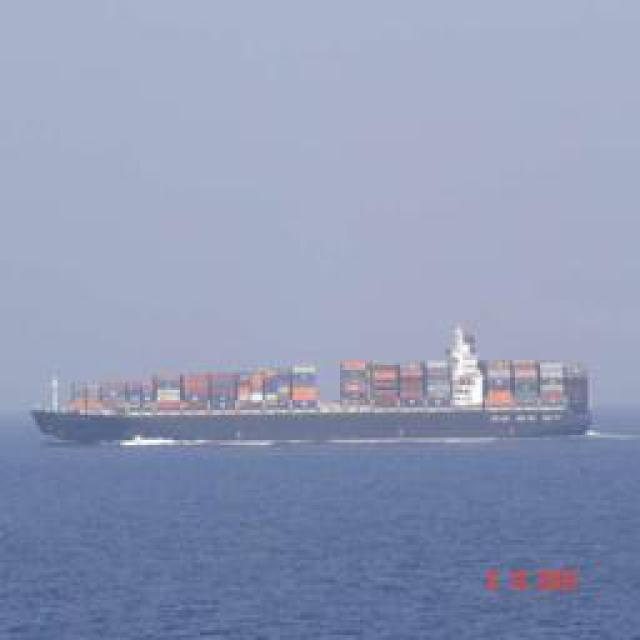Ship: (41, 355, 609, 448)
